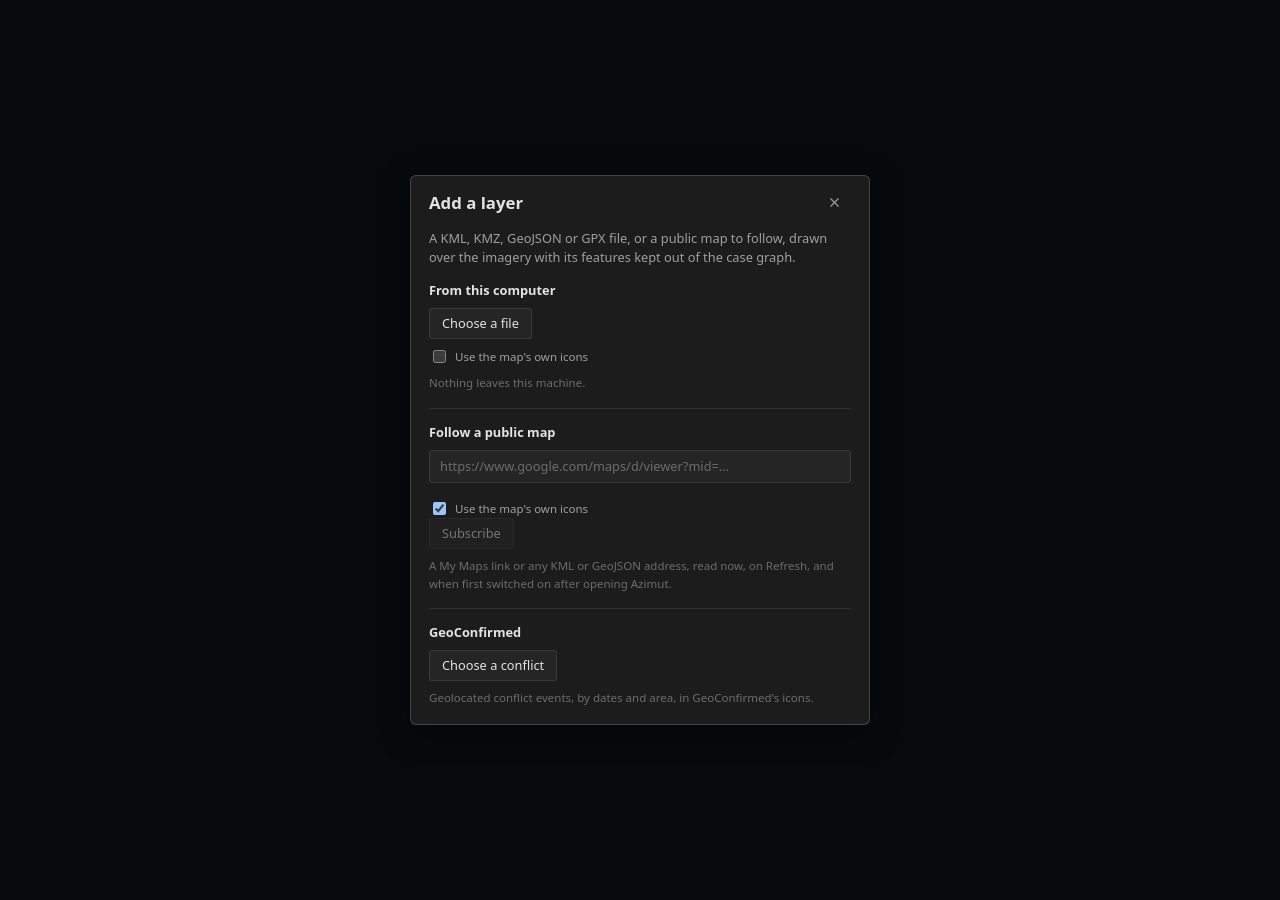
Test: the add-a-layer dialog › says what ticking it will do to a file, rather than after the fact
The image size is (1280, 900).
Click the checkbox labelled "Use the map's own icons" below "From this computer" at (440, 357), box [433,350,446,364]
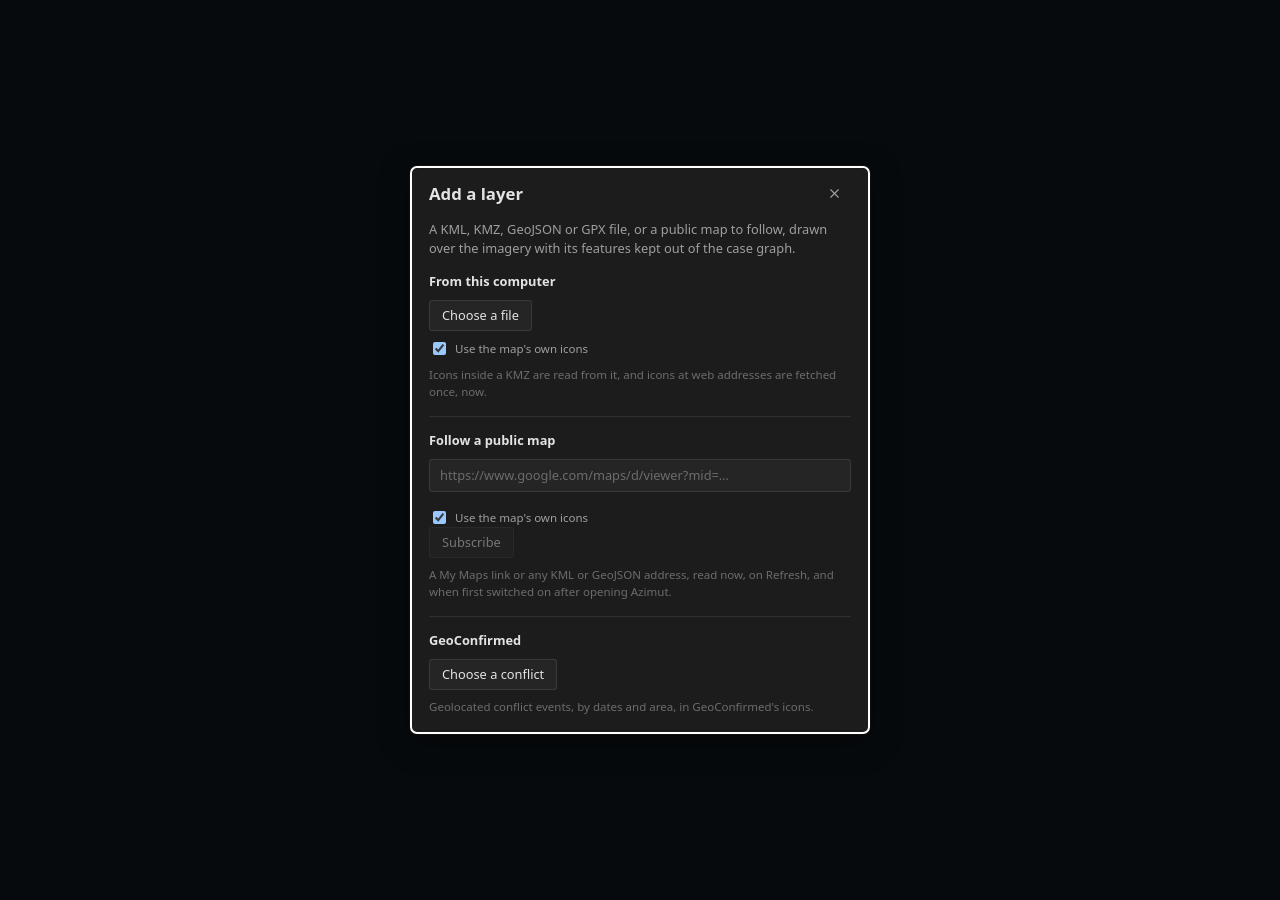
Result: the text "fetched once, now" is shown at [429,367,836,399]
